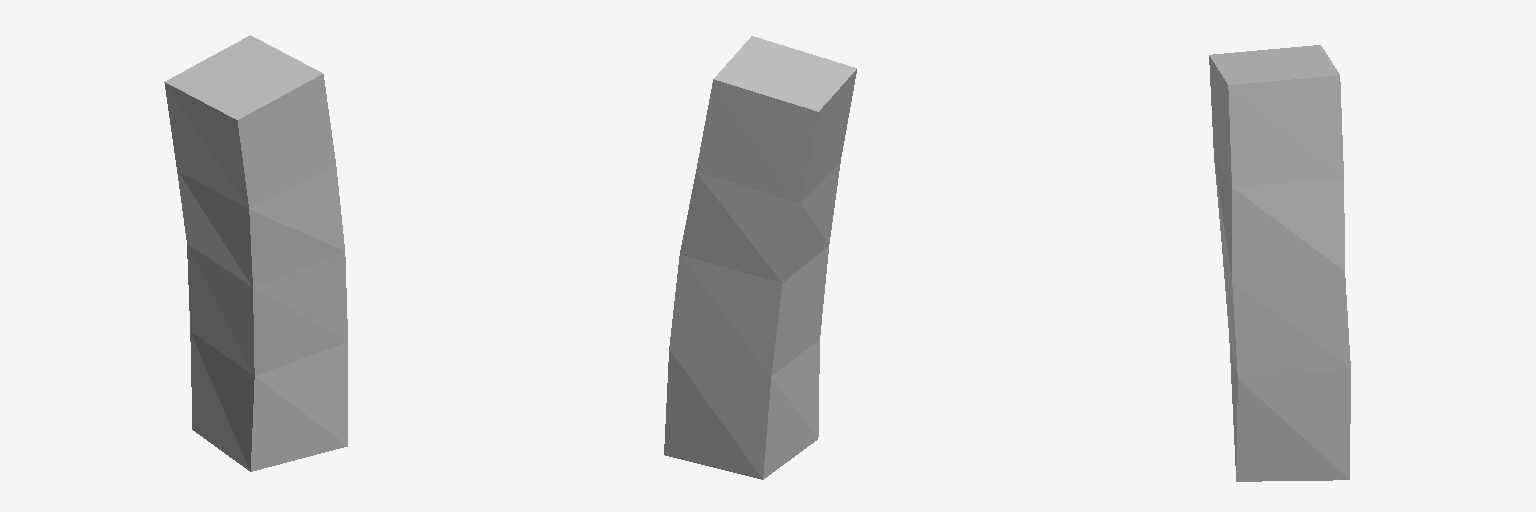
Rendered from wiggle_000011.obj.
3 views of the same model, side by side, from view 1: azimuth 30°, elevation 25°; view 2: azimuth 150°, elevation 25°; view 3: azimuth 270°, elevation 25° (orthographic).
Parts seen in each view (by area): view 1: Cube; view 2: Cube; view 3: Cube.
Boxes of the visible parts, box(x1,y1,x2,y2) form: Cube: box(164, 35, 347, 471); Cube: box(664, 36, 856, 479); Cube: box(1209, 45, 1350, 481).
Bounding box in the file's own units: 2.89 × 7.48 × 2.5.